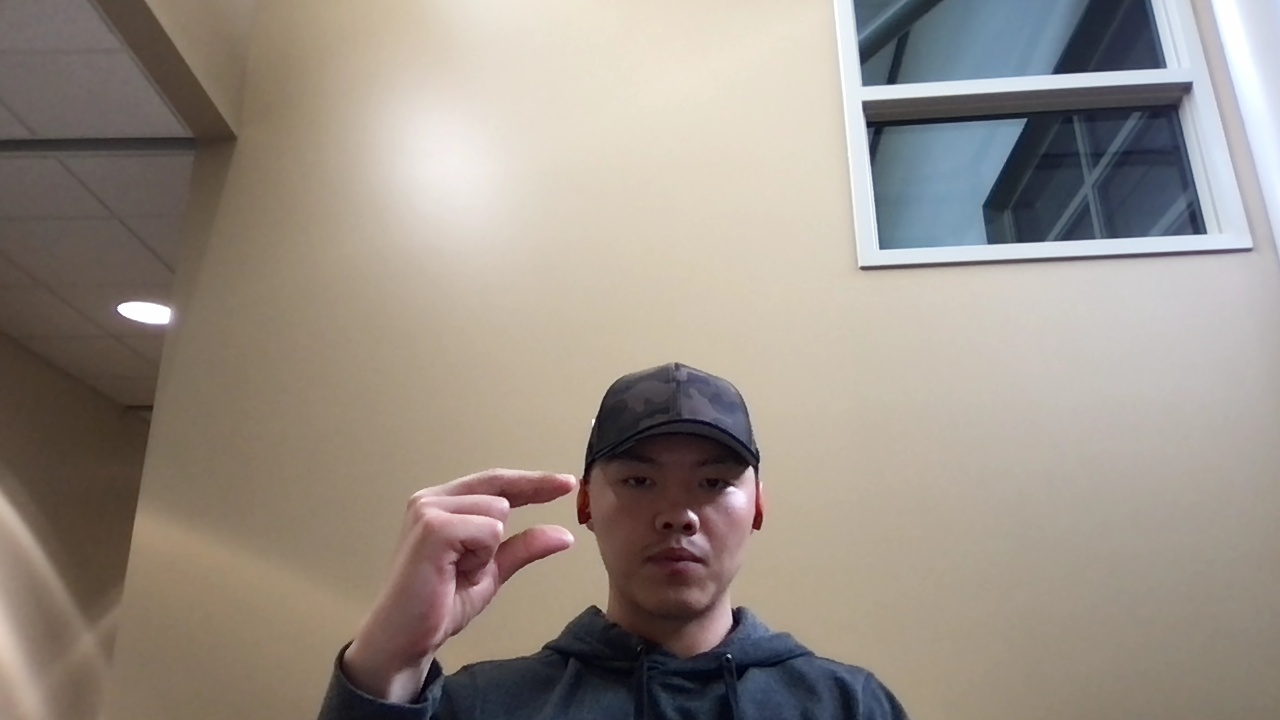No: (373, 464, 581, 655)
